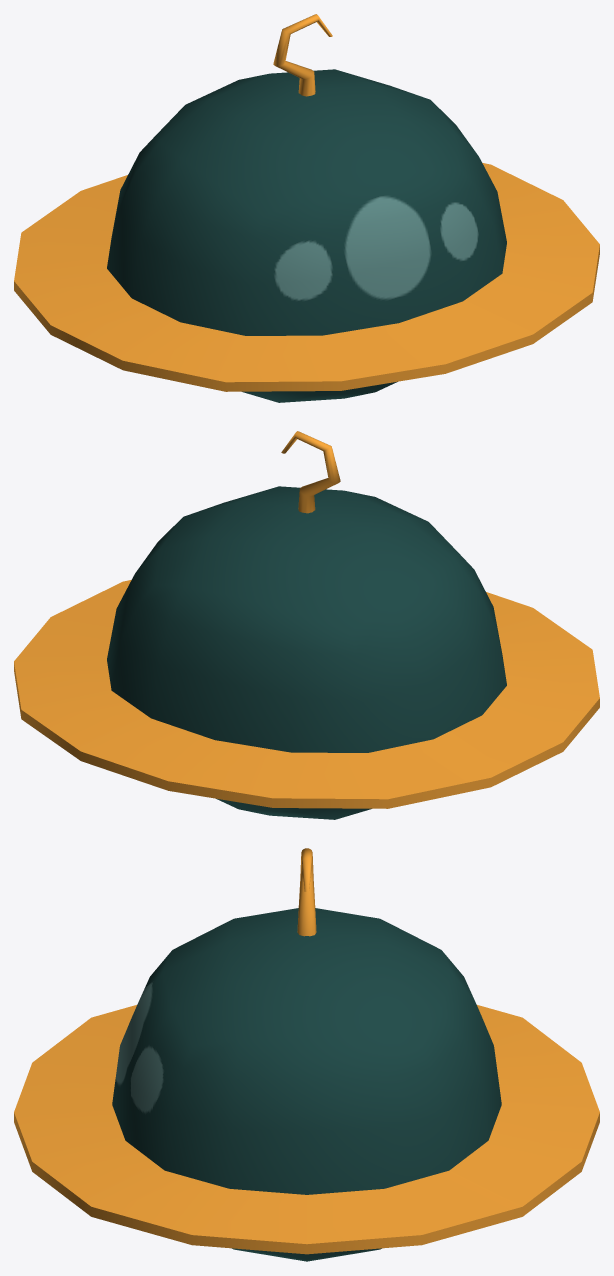
File: Props_Vaisseau.fbx
3 views of the same model, one above another, from view 1: azimuth 30°, elevation 25°; view 2: azimuth 150°, elevation 25°; view 3: azimuth 270°, elevation 25° (orthographic). The views are drawn at different scales.
Parts seen in each view (by area): view 1: vaisseau1; view 2: vaisseau1; view 3: vaisseau1.
Part boxes in pixels (x1=…): vaisseau1: x1=14, y1=14, x2=599, y2=402; vaisseau1: x1=14, y1=431, x2=599, y2=819; vaisseau1: x1=14, y1=848, x2=599, y2=1261.
Size of the model in its own units: 84.6 by 57.41 by 79.34.
